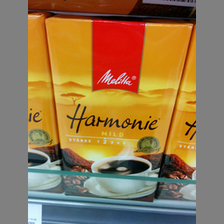coffee: (44, 11, 196, 202)
